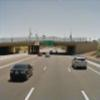cars: (9, 63, 34, 84), (71, 56, 87, 71)
